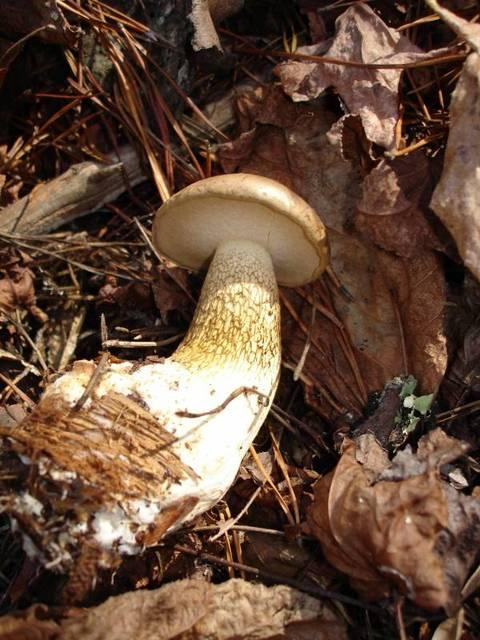poisonous_mushroom: (6, 171, 330, 577)
